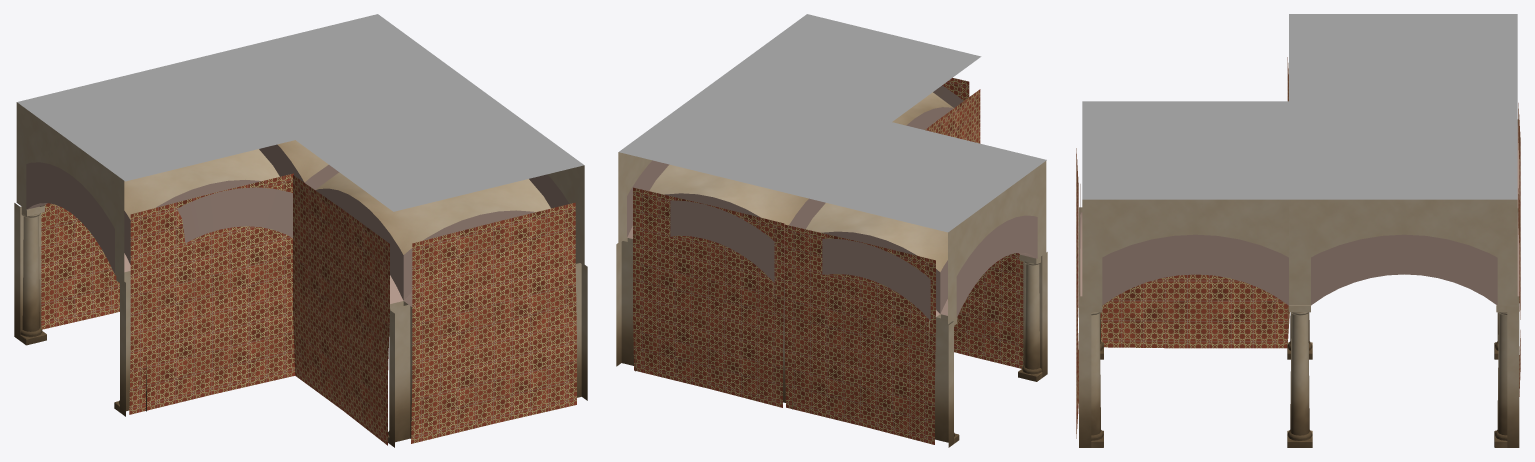
File: VaultsA01.fbx
3 renders of one model, left to right at view 1: azimuth 30°, elevation 25°; view 2: azimuth 150°, elevation 25°; view 3: azimuth 270°, elevation 25°, orthographic. The views are drawn at different scales.
Parts seen in each view (by area): view 1: Roof01, WallH04, WallH02, WallH03, ArchEndA01, WallH05, polySurface35, ArchMid03, ArchCeiling01, ColumnHalf03, ColumnHalf05, ArchEndA03 (+6 smaller); view 2: Roof01, WallH01, WallH05, ArchEndA01, WallH02, ArchMid02, polySurface11, polySurface12, ArchCeiling01, ColumnHalf04, ColumnHalf03, ColumnHalf02 (+5 smaller); view 3: Roof01, ArchEndA02, ArchEndA03, WallH03, ColumnHalf02, ColumnHalf06, ColumnFull02, WallH04.
Part boxes in pixels (left/top/right/bottom): Roof01: left=17, top=14, right=583, bottom=211; WallH04: left=411, top=202, right=576, bottom=443; WallH02: left=129, top=173, right=295, bottom=414; WallH03: left=293, top=175, right=389, bottom=445; ArchEndA01: left=16, top=102, right=130, bottom=280; WallH05: left=41, top=203, right=119, bottom=329; polySurface35: left=316, top=172, right=550, bottom=254; ArchMid03: left=155, top=180, right=292, bottom=243; ArchCeiling01: left=124, top=149, right=279, bottom=219; ColumnHalf03: left=14, top=203, right=46, bottom=345; ColumnHalf05: left=388, top=301, right=412, bottom=447; ArchEndA03: left=529, top=165, right=584, bottom=265; Roof01: left=619, top=14, right=1046, bottom=232; WallH01: left=633, top=187, right=784, bottom=407; WallH05: left=784, top=224, right=935, bottom=444; ArchEndA01: left=940, top=161, right=1046, bottom=324; WallH02: left=954, top=253, right=1023, bottom=368; ArchMid02: left=821, top=231, right=940, bottom=320; polySurface11: left=665, top=193, right=774, bottom=282; polySurface12: left=649, top=164, right=808, bottom=232; ArchCeiling01: left=806, top=203, right=947, bottom=271; ColumnHalf04: left=1018, top=252, right=1047, bottom=381; ColumnHalf03: left=929, top=314, right=959, bottom=447; ColumnHalf02: left=616, top=237, right=636, bottom=371; Roof01: left=1082, top=14, right=1517, bottom=199; ArchEndA02: left=1289, top=199, right=1517, bottom=305; ArchEndA03: left=1082, top=199, right=1290, bottom=305; WallH03: left=1100, top=274, right=1287, bottom=348; ColumnHalf02: left=1494, top=296, right=1519, bottom=447; ColumnHalf06: left=1079, top=295, right=1103, bottom=447; ColumnFull02: left=1287, top=305, right=1312, bottom=447; WallH04: left=1076, top=148, right=1078, bottom=438.
Size of the model in its own units: 9.23 by 5.69 by 9.25.
